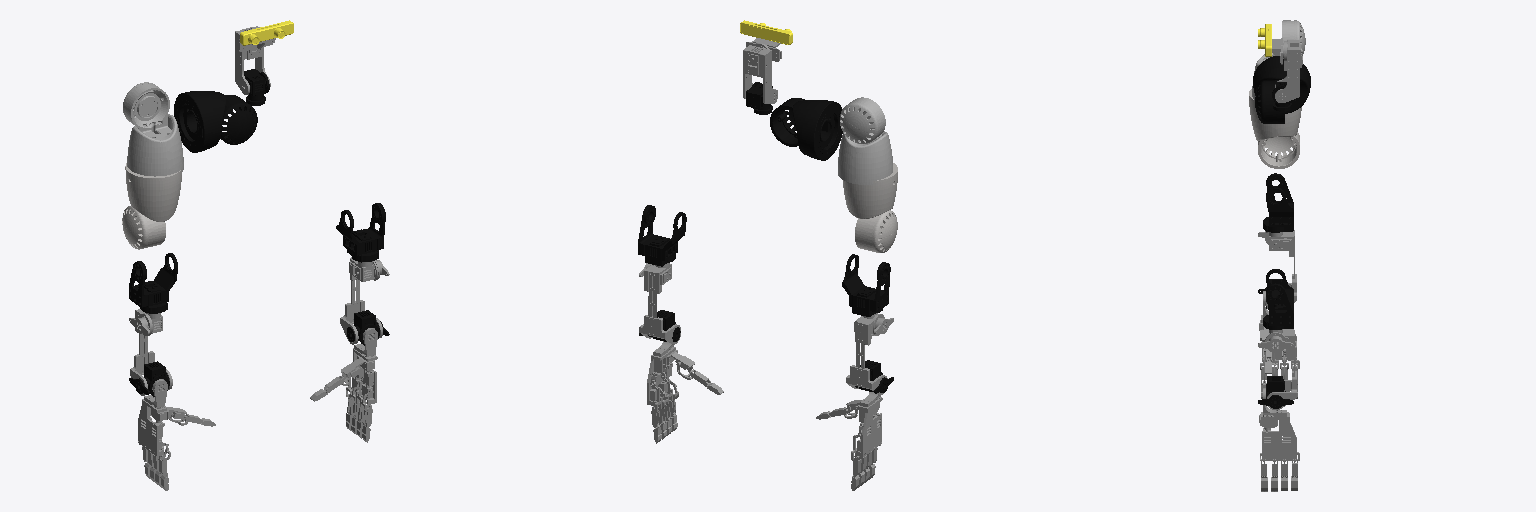
URDF robot description (elrik):
<robot name="elrik" version="1.0">
  <joint name="world_joint" type="fixed">
      <origin xyz="0 0 0.964145" rpy="0 0 0"/>  <!-- 0.964145 is the height of the robot from its origin -->
      <parent link="world"/>
      <child link="link_torso"/>
  </joint>
  <link name="world"/>

  <joint name="joint_head_pitch" type="revolute">
    <limit lower="-3.14000" upper="3.14000" effort="0.00000" velocity="0.00000"/>
    <origin rpy="-0.00000 1.57080 0.00000" xyz="0.00012 0.00000 0.03998"/>
    <parent link="link_head_yaw"/>
    <child link="link_head_pitch"/>
    <axis xyz="0.00000 0.00000 1.00000"/>
  </joint>
  <joint name="joint_head_roll" type="revolute">
    <limit lower="-3.14000" upper="3.14000" effort="0.00000" velocity="0.00000"/>
    <origin rpy="1.57080 -1.57080 0.00000" xyz="-0.10002 0.01200 0.00030"/>
    <parent link="link_head_pitch"/>
    <child link="link_head_roll"/>
    <axis xyz="0.00000 0.00000 1.00000"/>
  </joint>
  <joint name="joint_head_yaw" type="revolute">
    <limit lower="-3.14000" upper="3.14000" effort="0.00000" velocity="0.00000"/>
    <origin rpy="0.00000 0.00000 0.00000" xyz="-0.00012 -0.00000 0.20400"/>
    <parent link="link_torso"/>
    <child link="link_head_yaw"/>
    <axis xyz="0.00000 0.00000 1.00000"/>
  </joint>
  <joint name="joint_left_arm_yaw" type="revolute">
    <limit lower="-3.14000" upper="3.14000" effort="0.00000" velocity="0.00000"/>
    <origin rpy="-1.57080 0.00000 3.14159" xyz="0.00020 -0.12745 0.01486"/>
    <parent link="link_left_shoulder_x"/>
    <child link="link_left_upper_arm"/>
    <axis xyz="0.00000 0.00000 -1.00000"/>
  </joint>
  <joint name="joint_left_elbow_pitch" type="revolute">
    <limit lower="-3.14000" upper="3.14000" effort="0.00000" velocity="0.00000"/>
    <origin rpy="3.14159 -1.57080 3.14159" xyz="0.00011 0.00027 0.23600"/>
    <parent link="link_left_upper_arm"/>
    <child link="link_left_forearm"/>
    <axis xyz="0.00000 0.00000 -1.00000"/>
  </joint>
  <joint name="joint_left_forearm_yaw" type="revolute">
    <limit lower="-3.14000" upper="3.14000" effort="0.00000" velocity="0.00000"/>
    <origin rpy="-3.14159 -1.57080 0.00000" xyz="0.09363 -0.00002 0.00011"/>
    <parent link="link_left_forearm"/>
    <child link="link_left_wrist"/>
    <axis xyz="0.00000 0.00000 -1.00000"/>
  </joint>
  <joint name="joint_left_shoulder_pitch" type="revolute">
    <limit lower="-3.14000" upper="3.14000" effort="0.00000" velocity="0.00000"/>
    <origin rpy="0.00000 1.04720 0.00000" xyz="0.16356 -0.00077 0.19342"/>
    <parent link="link_torso"/>
    <child link="link_left_shoulder"/>
    <axis xyz="0.00000 0.00000 -1.00000"/>
  </joint>
  <joint name="joint_left_shoulder_roll" type="revolute">
    <limit lower="-3.14000" upper="3.14000" effort="0.00000" velocity="0.00000"/>
    <origin rpy="1.57080 -1.04720 -0.00000" xyz="-0.00011 0.00077 0.10785"/>
    <parent link="link_left_shoulder"/>
    <child link="link_left_shoulder_x"/>
    <axis xyz="0.00000 0.00000 1.00000"/>
  </joint>
  <joint name="joint_left_wrist_pitch" type="revolute">
    <limit lower="-3.14000" upper="3.14000" effort="0.00000" velocity="0.00000"/>
    <origin rpy="1.43744 -1.57080 1.70415" xyz="-0.00110 -0.00019 0.17400"/>
    <parent link="link_left_wrist"/>
    <child link="link_left_wrist_x"/>
    <axis xyz="0.00000 0.00000 -1.00000"/>
  </joint>
  <joint name="joint_left_wrist_roll" type="revolute">
    <limit lower="-3.14000" upper="3.14000" effort="0.00000" velocity="0.00000"/>
    <origin rpy="1.57080 -1.57080 0.00000" xyz="0.00002 -0.02290 -0.00009"/>
    <parent link="link_left_wrist_x"/>
    <child link="link_left_hand"/>
    <axis xyz="0.00000 0.00000 1.00000"/>
  </joint>
  <joint name="joint_right_arm_yaw" type="revolute">
    <limit lower="-3.14000" upper="3.14000" effort="0.00000" velocity="0.00000"/>
    <origin rpy="1.57080 -0.00000 0.00000" xyz="-0.00020 -0.12745 0.01486"/>
    <parent link="link_right_shoulder_x"/>
    <child link="link_right_upper_arm"/>
    <axis xyz="0.00000 0.00000 1.00000"/>
  </joint>
  <joint name="joint_right_elbow_pitch" type="revolute">
    <limit lower="-3.14000" upper="3.14000" effort="0.00000" velocity="0.00000"/>
    <origin rpy="1.79848 1.57080 -1.34311" xyz="0.00011 -0.00027 0.23600"/>
    <parent link="link_right_upper_arm"/>
    <child link="link_right_forearm"/>
    <axis xyz="0.00000 0.00000 1.00000"/>
  </joint>
  <joint name="joint_right_forearm_yaw" type="revolute">
    <limit lower="-3.14000" upper="3.14000" effort="0.00000" velocity="0.00000"/>
    <origin rpy="3.14159 1.57080 0.00000" xyz="-0.09363 -0.00002 0.00011"/>
    <parent link="link_right_forearm"/>
    <child link="link_right_wrist"/>
    <axis xyz="0.00000 0.00000 1.00000"/>
  </joint>
  <joint name="joint_right_shoulder_pitch" type="revolute">
    <limit lower="-3.14000" upper="3.14000" effort="0.00000" velocity="0.00000"/>
    <origin rpy="0.00000 0.00000 0.00000" xyz="-0.16356 -0.00077 0.19342"/>
    <parent link="link_torso"/>
    <child link="link_right_shoulder"/>
    <axis xyz="-0.86603 0.00000 0.50000"/>
  </joint>
  <joint name="joint_right_shoulder_roll" type="revolute">
    <limit lower="-3.14000" upper="3.14000" effort="0.00000" velocity="0.00000"/>
    <origin rpy="1.57080 0.00000 -0.00000" xyz="-0.09335 0.00077 0.05402"/>
    <parent link="link_right_shoulder"/>
    <child link="link_right_shoulder_x"/>
    <axis xyz="0.00000 0.00000 -1.00000"/>
  </joint>
  <joint name="joint_right_wrist_pitch" type="revolute">
    <limit lower="-3.14000" upper="3.14000" effort="0.00000" velocity="0.00000"/>
    <origin rpy="-1.79848 1.57080 1.34311" xyz="0.00110 -0.00019 0.17400"/>
    <parent link="link_right_wrist"/>
    <child link="link_right_wrist_x"/>
    <axis xyz="0.00000 0.00000 1.00000"/>
  </joint>
  <joint name="joint_right_wrist_roll" type="revolute">
    <limit lower="-3.14000" upper="3.14000" effort="0.00000" velocity="0.00000"/>
    <origin rpy="1.57080 1.57080 0.00000" xyz="-0.00000 0.00000 -0.00000"/>
    <parent link="link_right_wrist_x"/>
    <child link="link_right_hand"/>
    <axis xyz="0.00000 0.00000 -1.00000"/>
  </joint>
  <link name="link_head_pitch">
    <collision name="head_pitch_collision">
      <origin rpy="0.00000 -1.57080 0.00000" xyz="-0.05327 0.01505 -0.00120"/>
      <geometry>
        <box size="0.05500 0.06310 0.13950"/>
      </geometry>
    </collision>
    <inertial>
      <inertia ixx="0.00039" ixy="0.00000" ixz="-0.00000" iyy="0.00037" iyz="0.00000" izz="0.00012"/>
      <origin rpy="0.00000 0.00000 0.00000" xyz="0.00000 0.00000 0.00000"/>
      <mass value="0.20000"/>
    </inertial>
    <visual name="head_pitch">
      <origin rpy="0.00000 -1.57080 0.00000" xyz="0.00000 0.00000 0.00000"/>
      <material name="Opaque(160,160,160)"/>
      <geometry>
        <mesh filename="package://elrik_description/meshes/stl/head_pitch.stl" scale="1.00000 1.00000 1.00000"/>
      </geometry>
    </visual>
  </link>
  <link name="link_head_roll">
    <collision name="camera_collision">
      <origin rpy="-1.57080 0.00000 0.00000" xyz="0.00845 0.03060 0.05113"/>
      <geometry>
        <box size="0.12520 0.03016 0.02662"/>
      </geometry>
    </collision>
    <collision name="head_roll_collision">
      <origin rpy="-1.57080 0.00000 0.00000" xyz="0.00000 0.00035 0.02365"/>
      <geometry>
        <box size="0.08500 0.05150 0.03370"/>
      </geometry>
    </collision>
    <inertial>
      <inertia ixx="0.00006" ixy="0.00000" ixz="0.00000" iyy="0.00014" iyz="0.00000" izz="0.00016"/>
      <origin rpy="0.00000 0.00000 0.00000" xyz="0.00000 -0.00000 -0.00000"/>
      <mass value="0.20000"/>
    </inertial>
    <visual name="camera">
      <origin rpy="-1.57080 0.00000 0.00000" xyz="0.00620 0.03059 0.03605"/>
      <material name="Plastic - Texture - Random (Yellow)"/>
      <geometry>
        <mesh filename="package://elrik_description/meshes/stl/camera.stl" scale="1.00000 1.00000 1.00000"/>
      </geometry>
    </visual>
    <visual name="head_roll">
      <origin rpy="-1.57080 0.00000 0.00000" xyz="0.00000 -0.00000 -0.00000"/>
      <material name="Opaque(160,160,160)"/>
      <geometry>
        <mesh filename="package://elrik_description/meshes/stl/head_roll.stl" scale="1.00000 1.00000 1.00000"/>
      </geometry>
    </visual>
  </link>
  <link name="link_head_yaw">
    <collision name="head_yaw_collision">
      <origin rpy="0.00000 0.00000 0.00000" xyz="-0.00058 0.00850 0.03150"/>
      <geometry>
        <box size="0.04200 0.06300 0.06300"/>
      </geometry>
    </collision>
    <inertial>
      <inertia ixx="0.00013" ixy="0.00000" ixz="0.00000" iyy="0.00010" iyz="0.00000" izz="0.00010"/>
      <origin rpy="0.00000 0.00000 0.00000" xyz="-0.00000 0.00000 0.00000"/>
      <mass value="0.20000"/>
    </inertial>
    <visual name="head_yaw">
      <origin rpy="0.00000 0.00000 0.00000" xyz="-0.00000 0.00000 0.00000"/>
      <material name="Opaque(25,25,25)"/>
      <geometry>
        <mesh filename="package://elrik_description/meshes/stl/head_yaw.stl" scale="1.00000 1.00000 1.00000"/>
      </geometry>
    </visual>
  </link>
  <link name="link_left_forearm">
    <collision name="left_forearm_collision">
      <origin rpy="0.00000 -1.57080 0.00000" xyz="0.03558 0.00583 -0.00393"/>
      <geometry>
        <box size="0.08489 0.06853 0.11616"/>
      </geometry>
    </collision>
    <inertial>
      <inertia ixx="0.00030" ixy="0.00000" ixz="-0.00000" iyy="0.00034" iyz="0.00000" izz="0.00020"/>
      <origin rpy="0.00000 0.00000 0.00000" xyz="-0.00000 0.00000 0.00000"/>
      <mass value="0.20000"/>
    </inertial>
    <visual name="left_forearm">
      <origin rpy="0.00000 -1.57080 0.00000" xyz="-0.00000 0.00000 0.00000"/>
      <material name="Opaque(25,25,25)"/>
      <geometry>
        <mesh filename="package://elrik_description/meshes/stl/left_forearm.stl" scale="1.00000 1.00000 1.00000"/>
      </geometry>
    </visual>
  </link>
  <link name="link_left_hand">
    <collision name="left_hand_collision">
      <origin rpy="-1.57080 0.00000 0.00000" xyz="-0.00054 -0.11191 -0.03097"/>
      <geometry>
        <box size="0.05243 0.08957 0.26082"/>
      </geometry>
    </collision>
    <inertial>
      <inertia ixx="0.00127" ixy="0.00000" ixz="0.00000" iyy="0.00154" iyz="0.00000" izz="0.00054"/>
      <origin rpy="0.00000 0.00000 0.00000" xyz="0.00000 0.00000 0.00000"/>
      <mass value="0.20000"/>
    </inertial>
    <visual name="left_hand">
      <origin rpy="-1.57080 0.00000 0.00000" xyz="-0.00000 0.00000 0.00000"/>
      <material name="Opaque(160,160,160)"/>
      <geometry>
        <mesh filename="package://elrik_description/meshes/stl/left_hand.stl" scale="1.00000 1.00000 1.00000"/>
      </geometry>
    </visual>
  </link>
  <link name="link_left_shoulder">
    <collision name="left_shoulder_collision">
      <origin rpy="0.00000 0.00000 1.57080" xyz="0.00517 0.00077 0.07398"/>
      <geometry>
        <cylinder radius="0.05019" length="0.12980"/>
      </geometry>
    </collision>
    <inertial>
      <inertia ixx="0.00068" ixy="0.00000" ixz="0.00000" iyy="0.00068" iyz="0.00000" izz="0.00065"/>
      <origin rpy="0.00000 0.00000 0.00000" xyz="0.00000 -0.00000 0.00000"/>
      <mass value="0.20000"/>
    </inertial>
    <visual name="left_shoulder">
      <origin rpy="0.00000 -1.04720 -0.00000" xyz="0.00000 -0.00000 -0.00000"/>
      <material name="Opaque(25,25,25)"/>
      <geometry>
        <mesh filename="package://elrik_description/meshes/stl/left_shoulder.stl" scale="1.00000 1.00000 1.00000"/>
      </geometry>
    </visual>
  </link>
  <link name="link_left_shoulder_x">
    <collision name="left_shoulder_x_collision">
      <origin rpy="-1.57080 0.00000 0.00000" xyz="0.00020 -0.05428 0.00895"/>
      <geometry>
        <box size="0.06396 0.10018 0.17240"/>
      </geometry>
    </collision>
    <inertial>
      <inertia ixx="0.00066" ixy="0.00000" ixz="0.00000" iyy="0.00056" iyz="0.00000" izz="0.00024"/>
      <origin rpy="0.00000 0.00000 0.00000" xyz="0.00000 0.00000 0.00000"/>
      <mass value="0.20000"/>
    </inertial>
    <visual name="left_shoulder_x">
      <origin rpy="-1.57080 0.00000 0.00000" xyz="0.00000 0.00000 -0.00000"/>
      <material name="Opaque(179,179,179)"/>
      <geometry>
        <mesh filename="package://elrik_description/meshes/stl/left_shoulder_x.stl" scale="1.00000 1.00000 1.00000"/>
      </geometry>
    </visual>
  </link>
  <link name="link_left_upper_arm">
    <collision name="left_upper_arm_collision">
      <origin rpy="3.14159 0.00000 3.14159" xyz="0.00473 0.00127 0.13299"/>
      <geometry>
        <box size="0.07946 0.06203 0.26602"/>
      </geometry>
    </collision>
    <inertial>
      <inertia ixx="0.00124" ixy="0.00000" ixz="0.00000" iyy="0.00128" iyz="0.00000" izz="0.00017"/>
      <origin rpy="0.00000 0.00000 0.00000" xyz="0.00000 0.00000 -0.00000"/>
      <mass value="0.20000"/>
    </inertial>
    <visual name="left_upper_arm">
      <origin rpy="3.14159 0.00000 3.14159" xyz="0.00000 0.00000 -0.00000"/>
      <material name="Opaque(191,189,187)"/>
      <geometry>
        <mesh filename="package://elrik_description/meshes/stl/left_upper_arm.stl" scale="1.00000 1.00000 1.00000"/>
      </geometry>
    </visual>
  </link>
  <link name="link_left_wrist">
    <collision name="left_wrist_collision">
      <origin rpy="3.14159 0.00000 0.00000" xyz="0.00130 -0.00313 0.09773"/>
      <geometry>
        <box size="0.07085 0.08614 0.19550"/>
      </geometry>
    </collision>
    <inertial>
      <inertia ixx="0.00076" ixy="0.00000" ixz="0.00000" iyy="0.00072" iyz="-0.00000" izz="0.00021"/>
      <origin rpy="0.00000 0.00000 0.00000" xyz="0.00000 0.00000 -0.00000"/>
      <mass value="0.20000"/>
    </inertial>
    <visual name="left_wrist">
      <origin rpy="3.14159 0.00000 0.00000" xyz="0.00000 -0.00000 -0.00000"/>
      <material name="Opaque(160,160,160)"/>
      <geometry>
        <mesh filename="package://elrik_description/meshes/stl/left_wrist.stl" scale="1.00000 1.00000 1.00000"/>
      </geometry>
    </visual>
  </link>
  <link name="link_left_wrist_x">
    <collision name="left_wrist_x_collision">
      <origin rpy="-0.00000 -1.57080 0.00000" xyz="-0.00775 0.00002 0.00201"/>
      <geometry>
        <box size="0.07164 0.08000 0.06454"/>
      </geometry>
    </collision>
    <inertial>
      <inertia ixx="0.00018" ixy="0.00000" ixz="0.00000" iyy="0.00015" iyz="0.00000" izz="0.00019"/>
      <origin rpy="0.00000 0.00000 0.00000" xyz="-0.00000 0.00000 0.00000"/>
      <mass value="0.20000"/>
    </inertial>
    <visual name="left_wrist_x">
      <origin rpy="-0.00000 -1.57080 0.00000" xyz="0.00000 0.00000 0.00000"/>
      <material name="Opaque(25,25,25)"/>
      <geometry>
        <mesh filename="package://elrik_description/meshes/stl/left_wrist_x.stl" scale="1.00000 1.00000 1.00000"/>
      </geometry>
    </visual>
  </link>
  <link name="link_right_forearm">
    <collision name="right_forearm_collision">
      <origin rpy="-0.00000 1.57080 0.00000" xyz="-0.03558 0.00583 -0.00393"/>
      <geometry>
        <box size="0.08489 0.06853 0.11616"/>
      </geometry>
    </collision>
    <inertial>
      <inertia ixx="0.00030" ixy="0.00000" ixz="0.00000" iyy="0.00034" iyz="0.00000" izz="0.00020"/>
      <origin rpy="0.00000 0.00000 0.00000" xyz="-0.00000 -0.00000 -0.00000"/>
      <mass value="0.20000"/>
    </inertial>
    <visual name="right_forearm">
      <origin rpy="-0.00000 1.57080 0.00000" xyz="0.00000 -0.00000 -0.00000"/>
      <material name="Opaque(25,25,25)"/>
      <geometry>
        <mesh filename="package://elrik_description/meshes/stl/right_forearm.stl" scale="1.00000 1.00000 1.00000"/>
      </geometry>
    </visual>
  </link>
  <link name="link_right_hand">
    <collision name="right_hand_collision">
      <origin rpy="-1.57080 -0.00000 0.00000" xyz="0.00016 -0.11193 -0.00807"/>
      <geometry>
        <box size="0.04897 0.08957 0.26082"/>
      </geometry>
    </collision>
    <inertial>
      <inertia ixx="0.00127" ixy="0.00000" ixz="-0.00000" iyy="0.00154" iyz="-0.00000" izz="0.00054"/>
      <origin rpy="0.00000 0.00000 0.00000" xyz="0.00009 -0.00002 0.02290"/>
      <mass value="0.20000"/>
    </inertial>
    <visual name="right_hand">
      <origin rpy="-1.57080 0.00000 0.00000" xyz="0.00009 -0.00002 0.02290"/>
      <material name="Opaque(160,160,160)"/>
      <geometry>
        <mesh filename="package://elrik_description/meshes/stl/right_hand.stl" scale="1.00000 1.00000 1.00000"/>
      </geometry>
    </visual>
  </link>
  <link name="link_right_shoulder">
    <collision name="right_shoulder_collision">
      <origin rpy="2.08657 -0.01930 1.47639" xyz="-0.06662 0.00167 0.03240"/>
      <geometry>
        <cylinder radius="0.04602" length="0.13522"/>
      </geometry>
    </collision>
    <inertial>
      <inertia ixx="0.00068" ixy="0.00000" ixz="-0.00000" iyy="0.00068" iyz="0.00000" izz="0.00065"/>
      <origin rpy="0.00000 0.00000 0.00000" xyz="-0.00000 0.00000 0.00000"/>
      <mass value="0.20000"/>
    </inertial>
    <visual name="right_shoulder">
      <origin rpy="-0.00000 0.00000 0.00000" xyz="-0.00000 0.00000 0.00000"/>
      <material name="Opaque(25,25,25)"/>
      <geometry>
        <mesh filename="package://elrik_description/meshes/stl/right_shoulder.stl" scale="1.00000 1.00000 1.00000"/>
      </geometry>
    </visual>
  </link>
  <link name="link_right_shoulder_x">
    <collision name="right_shoulder_x_collision">
      <origin rpy="-1.57080 -0.00000 0.00000" xyz="-0.00020 -0.05428 0.00895"/>
      <geometry>
        <box size="0.06396 0.10018 0.17240"/>
      </geometry>
    </collision>
    <inertial>
      <inertia ixx="0.00066" ixy="0.00000" ixz="0.00000" iyy="0.00056" iyz="-0.00000" izz="0.00024"/>
      <origin rpy="0.00000 0.00000 0.00000" xyz="0.00000 0.00000 -0.00000"/>
      <mass value="0.20000"/>
    </inertial>
    <visual name="right_shoulder_x">
      <origin rpy="-1.57080 0.00000 0.00000" xyz="0.00000 0.00000 -0.00000"/>
      <material name="Opaque(179,179,179)"/>
      <geometry>
        <mesh filename="package://elrik_description/meshes/stl/right_shoulder_x.stl" scale="1.00000 1.00000 1.00000"/>
      </geometry>
    </visual>
  </link>
  <link name="link_right_upper_arm">
    <collision name="right_upper_arm_collision">
      <origin rpy="3.14159 -0.00000 -0.00000" xyz="0.00473 -0.00127 0.13299"/>
      <geometry>
        <box size="0.07946 0.06203 0.26602"/>
      </geometry>
    </collision>
    <inertial>
      <inertia ixx="0.00124" ixy="-0.00000" ixz="-0.00000" iyy="0.00128" iyz="-0.00000" izz="0.00017"/>
      <origin rpy="0.00000 0.00000 0.00000" xyz="0.00000 0.00000 -0.00000"/>
      <mass value="0.20000"/>
    </inertial>
    <visual name="right_upper_arm">
      <origin rpy="3.14159 -0.00000 0.00000" xyz="0.00000 0.00000 -0.00000"/>
      <material name="Opaque(191,189,187)"/>
      <geometry>
        <mesh filename="package://elrik_description/meshes/stl/right_upper_arm.stl" scale="1.00000 1.00000 1.00000"/>
      </geometry>
    </visual>
  </link>
  <link name="link_right_wrist">
    <collision name="right_wrist_collision">
      <origin rpy="-3.14159 -0.00000 0.00000" xyz="-0.00130 -0.00313 0.09773"/>
      <geometry>
        <box size="0.07085 0.08614 0.19550"/>
      </geometry>
    </collision>
    <inertial>
      <inertia ixx="0.00076" ixy="-0.00000" ixz="-0.00000" iyy="0.00072" iyz="0.00000" izz="0.00021"/>
      <origin rpy="0.00000 0.00000 0.00000" xyz="0.00000 0.00000 0.00000"/>
      <mass value="0.20000"/>
    </inertial>
    <visual name="right_wrist">
      <origin rpy="-3.14159 0.00000 0.00000" xyz="0.00000 0.00000 0.00000"/>
      <material name="Opaque(160,160,160)"/>
      <geometry>
        <mesh filename="package://elrik_description/meshes/stl/right_wrist.stl" scale="1.00000 1.00000 1.00000"/>
      </geometry>
    </visual>
  </link>
  <link name="link_right_wrist_x">
    <collision name="right_wrist_x_collision">
      <origin rpy="-0.00000 1.57080 0.00000" xyz="0.00775 0.00002 0.00201"/>
      <geometry>
        <box size="0.07164 0.08000 0.06454"/>
      </geometry>
    </collision>
    <inertial>
      <inertia ixx="0.00018" ixy="0.00000" ixz="-0.00000" iyy="0.00015" iyz="-0.00000" izz="0.00019"/>
      <origin rpy="0.00000 0.00000 0.00000" xyz="-0.00000 -0.00000 -0.00000"/>
      <mass value="0.20000"/>
    </inertial>
    <visual name="right_wrist_x">
      <origin rpy="-0.00000 1.57080 0.00000" xyz="-0.00000 -0.00000 -0.00000"/>
      <material name="Opaque(25,25,25)"/>
      <geometry>
        <mesh filename="package://elrik_description/meshes/stl/right_wrist_x.stl" scale="1.00000 1.00000 1.00000"/>
      </geometry>
    </visual>
  </link>
  <link name="link_torso">
    <collision name="torso_collision">
      <origin rpy="0.00000 0.00000 0.00000" xyz="0.00000 0.00040 0.10725"/>
      <geometry>
        <box size="0.38548 0.07402 0.25694"/>
      </geometry>
    </collision>
    <inertial>
      <inertia ixx="0.06277" ixy="0.00000" ixz="0.00000" iyy="0.06683" iyz="0.00000" izz="0.04157"/>
      <origin rpy="0.00000 0.00000 0.00000" xyz="0.00000 -0.00000 0.00000"/>
      <mass value="0.20000"/>
    </inertial>
    <visual name="torso">
      <origin rpy="0.00000 0.00000 0.00000" xyz="0.00000 -0.00000 0.00000"/>
      <material name="ABS (White)"/>
      <geometry>
        <mesh filename="package://elrik_description/meshes/stl/torso.stl" scale="1.00000 1.00000 1.00000"/>
      </geometry>
    </visual>
  </link>
  <material name="ABS (White)">
    <color rgba="0.96471 0.96471 0.95294 1.00000"/>
  </material>
  <material name="Opaque(160,160,160)">
    <color rgba="0.62745 0.62745 0.62745 1.00000"/>
  </material>
  <material name="Opaque(179,179,179)">
    <color rgba="0.70196 0.70196 0.70196 1.00000"/>
  </material>
  <material name="Opaque(191,189,187)">
    <color rgba="0.74902 0.74118 0.73333 1.00000"/>
  </material>
  <material name="Opaque(25,25,25)">
    <color rgba="0.09804 0.09804 0.09804 1.00000"/>
  </material>
  <material name="Plastic - Texture - Random (Yellow)">
    <color rgba="1.00000 0.95294 0.31373 1.00000"/>
  </material>
</robot>

--- Render facts (derived) ---
3 views of the same robot in one strip: view 1: azimuth 30°, elevation 25°; view 2: azimuth 150°, elevation 25°; view 3: azimuth 270°, elevation 25° (orthographic).
Robot: elrik — 19 links, 18 joints (17 revolute, 1 fixed); root link world; default pose: all joints at 0.
Visible links, largest first — view 1: link_right_shoulder_x, link_right_shoulder, link_right_upper_arm, link_left_hand, link_right_hand, link_right_forearm, link_left_forearm, link_left_wrist, link_right_wrist, link_head_roll, link_head_pitch, link_head_yaw (+2 smaller); view 2: link_right_shoulder_x, link_right_shoulder, link_right_upper_arm, link_left_hand, link_right_hand, link_right_forearm, link_left_forearm, link_right_wrist, link_left_wrist, link_head_pitch, link_head_roll, link_head_yaw; view 3: link_left_hand, link_right_upper_arm, link_right_shoulder, link_left_forearm, link_right_forearm, link_right_hand, link_head_pitch, link_left_wrist, link_right_wrist, link_left_wrist_x, link_right_shoulder_x, link_head_roll.
Boxes of the visible links, <box> form: link_right_shoulder_x: <box>123,82,183,176</box>; link_right_shoulder: <box>174,91,257,152</box>; link_right_upper_arm: <box>122,163,181,249</box>; link_left_hand: <box>310,328,377,442</box>; link_right_hand: <box>138,379,215,490</box>; link_right_forearm: <box>129,253,177,313</box>; link_left_forearm: <box>336,203,385,262</box>; link_left_wrist: <box>340,257,389,344</box>; link_right_wrist: <box>129,309,172,395</box>; link_head_roll: <box>239,20,293,51</box>; link_head_pitch: <box>235,26,270,94</box>; link_head_yaw: <box>244,69,269,105</box>; link_right_shoulder_x: <box>838,97,892,184</box>; link_right_shoulder: <box>770,98,842,160</box>; link_right_upper_arm: <box>843,163,897,252</box>; link_left_hand: <box>647,341,723,443</box>; link_right_hand: <box>816,392,882,490</box>; link_right_forearm: <box>842,254,890,316</box>; link_left_forearm: <box>638,205,686,266</box>; link_right_wrist: <box>846,313,893,394</box>; link_left_wrist: <box>639,263,680,344</box>; link_head_pitch: <box>743,43,777,103</box>; link_head_roll: <box>740,20,792,61</box>; link_head_yaw: <box>746,82,772,114</box>; link_left_hand: <box>1259,388,1299,491</box>; link_right_upper_arm: <box>1249,89,1301,168</box>; link_right_shoulder: <box>1253,56,1310,123</box>; link_left_forearm: <box>1263,269,1293,329</box>; link_right_forearm: <box>1263,173,1293,232</box>; link_right_hand: <box>1259,291,1299,398</box>; link_head_pitch: <box>1275,40,1302,102</box>; link_left_wrist: <box>1258,329,1296,409</box>; link_right_wrist: <box>1258,230,1296,308</box>; link_left_wrist_x: <box>1258,376,1293,408</box>; link_right_shoulder_x: <box>1252,20,1305,99</box>; link_head_roll: <box>1258,24,1283,64</box>.
Size in the robot's own frame: 0.6126 by 0.1391 by 1.01 metres.
15 mesh visuals loaded from 19 distinct referenced files (15 binary STL); not drawn: 4 (reference not matched to a file when rendering).
